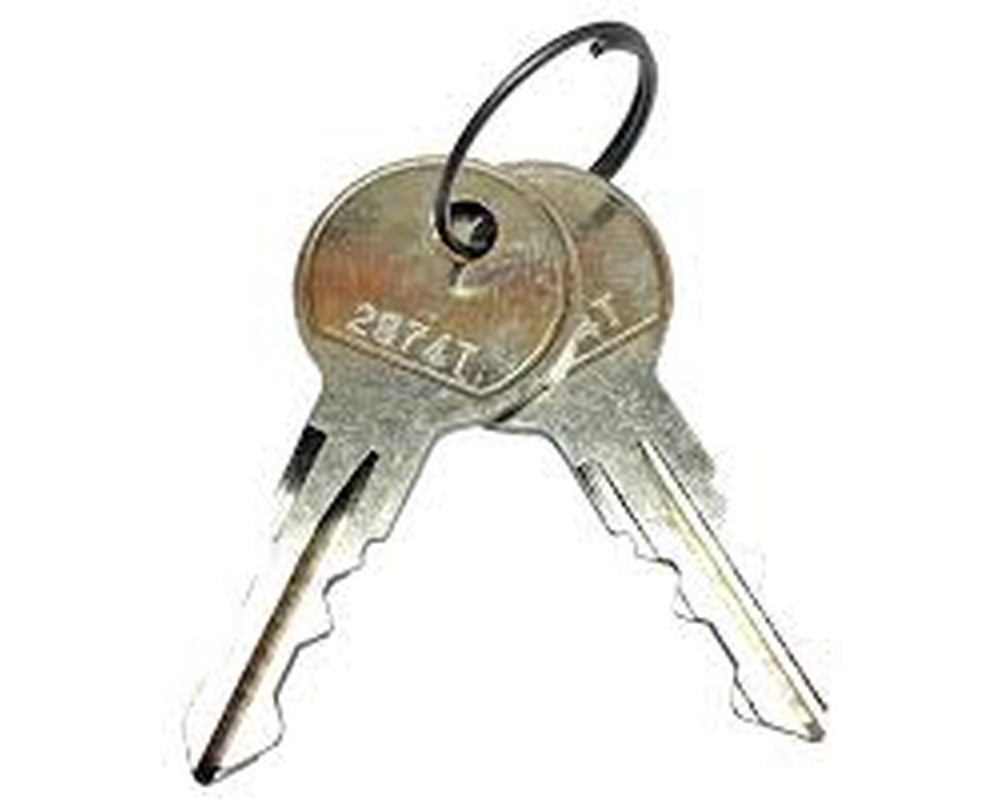key: (178, 153, 581, 790), (401, 160, 833, 744)
